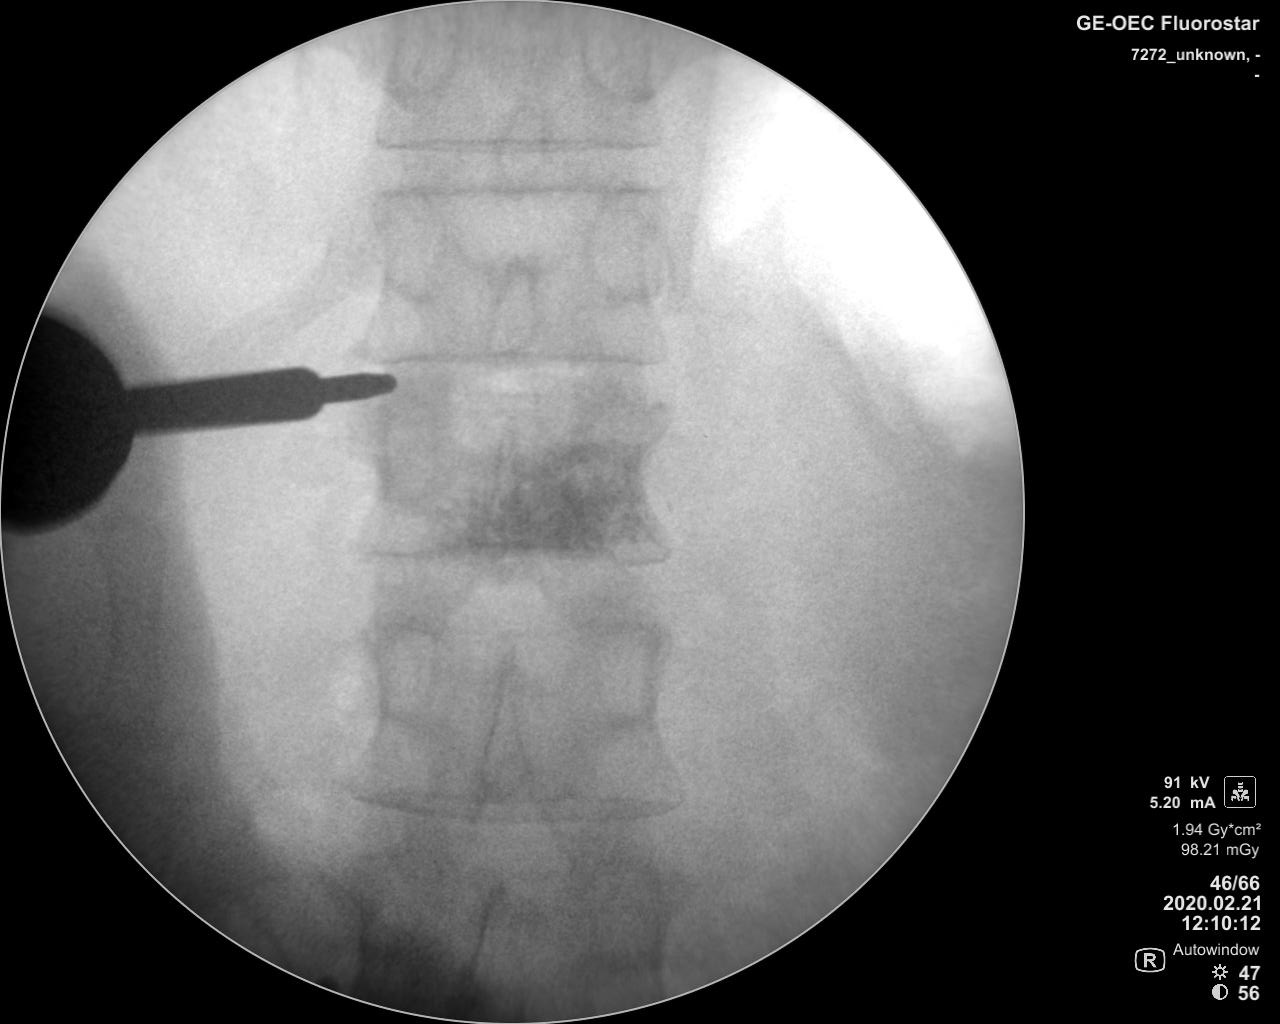eyes: (362, 188, 453, 306), (363, 613, 448, 728), (584, 196, 674, 300), (588, 618, 669, 732), (579, 19, 672, 104), (385, 10, 459, 111), (377, 396, 440, 510)
line: (322, 782, 692, 829), (335, 330, 678, 373), (336, 529, 676, 567), (358, 176, 676, 210), (365, 124, 667, 160)
nose: (473, 645, 537, 832), (480, 396, 529, 552), (481, 248, 537, 362), (499, 82, 544, 187)
